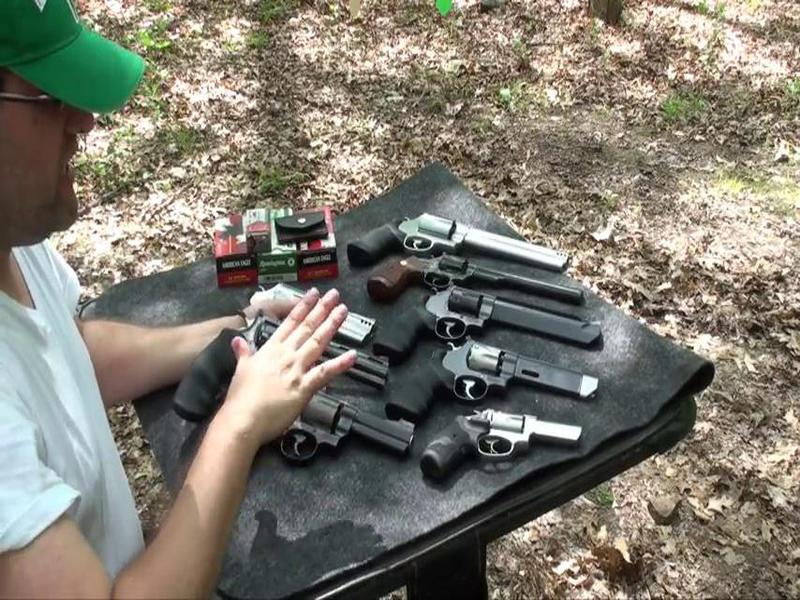Revolver: (150, 307, 388, 442)
